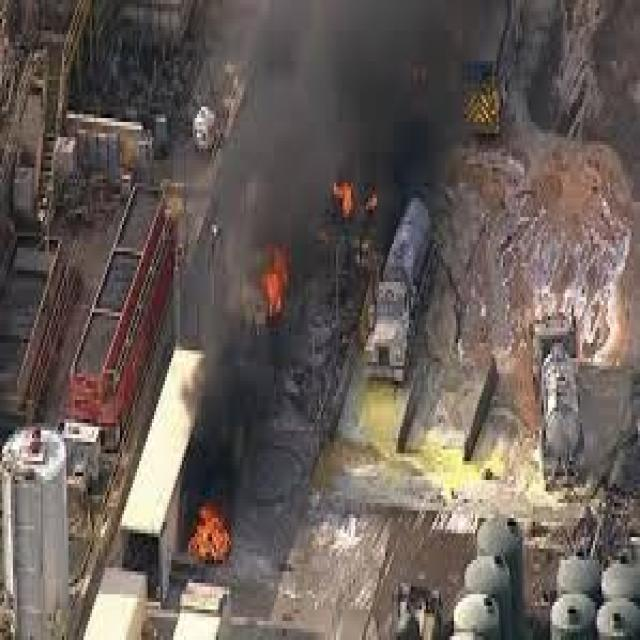explosion: (231, 149, 392, 470)
